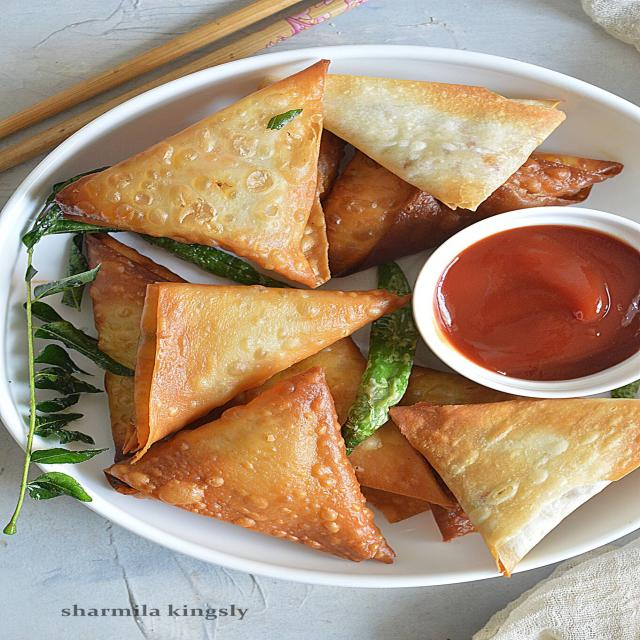SAMOSA: (39, 52, 340, 295), (98, 363, 404, 571), (126, 282, 413, 477), (389, 400, 640, 586)
